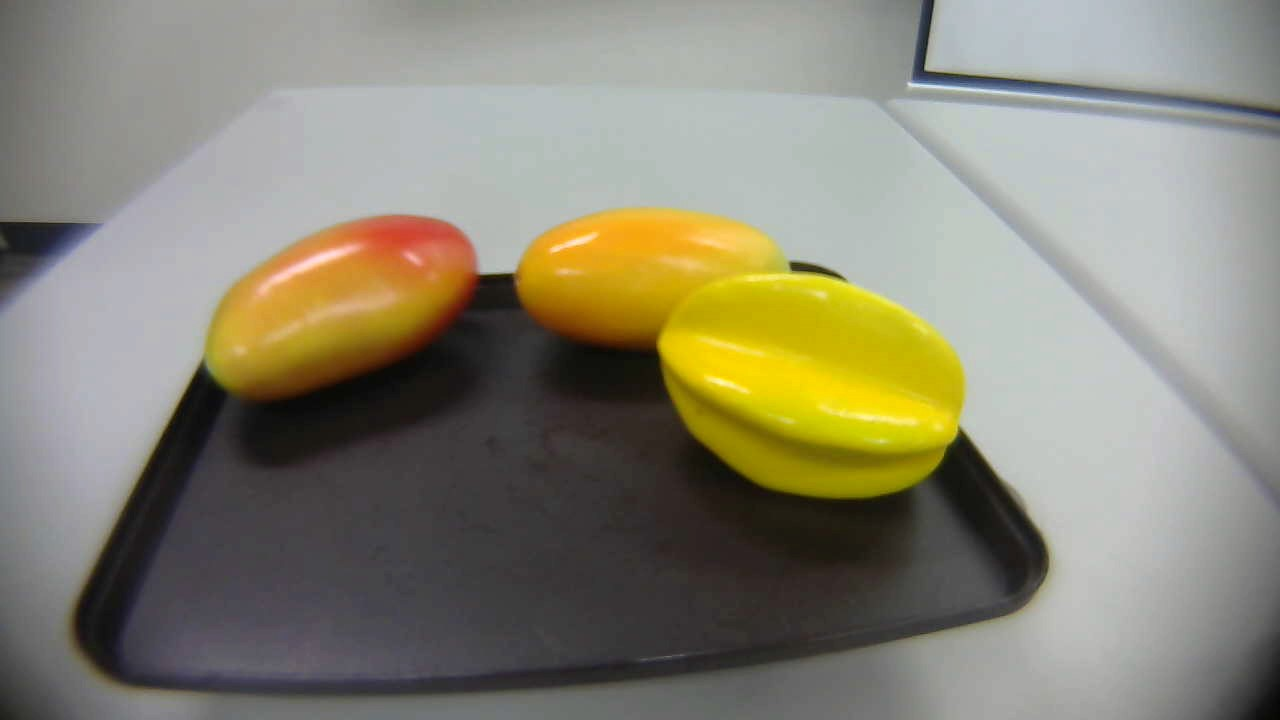red mango: (190, 202, 484, 415)
star fruit: (653, 271, 963, 506)
yellow mango: (513, 209, 794, 363)
